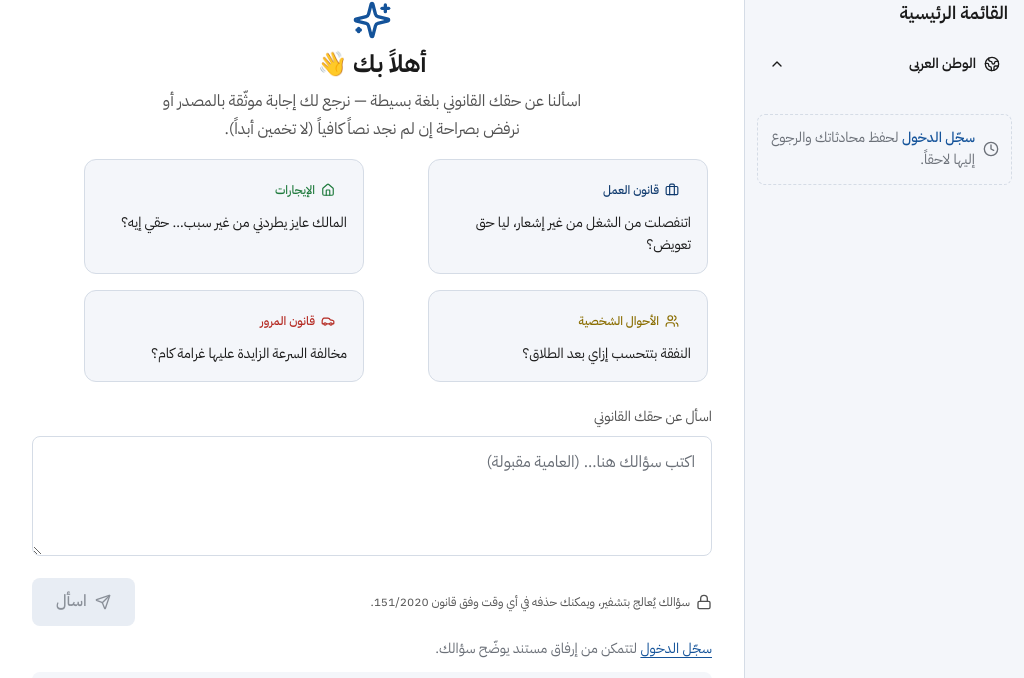
Test: ChatScreen › الاستيضاح › «تخطَّ وأجبنى مباشرة» يرسل skip=true مع الإجابات حتى الآن
Type "ما حقوقى عند الفصل؟" into the text box labelled "اسأل عن حقك القانوني".
click(372, 496); type("ما حقوقى عند الفصل؟")  # box top-left (32, 436), bottom-right (712, 556)
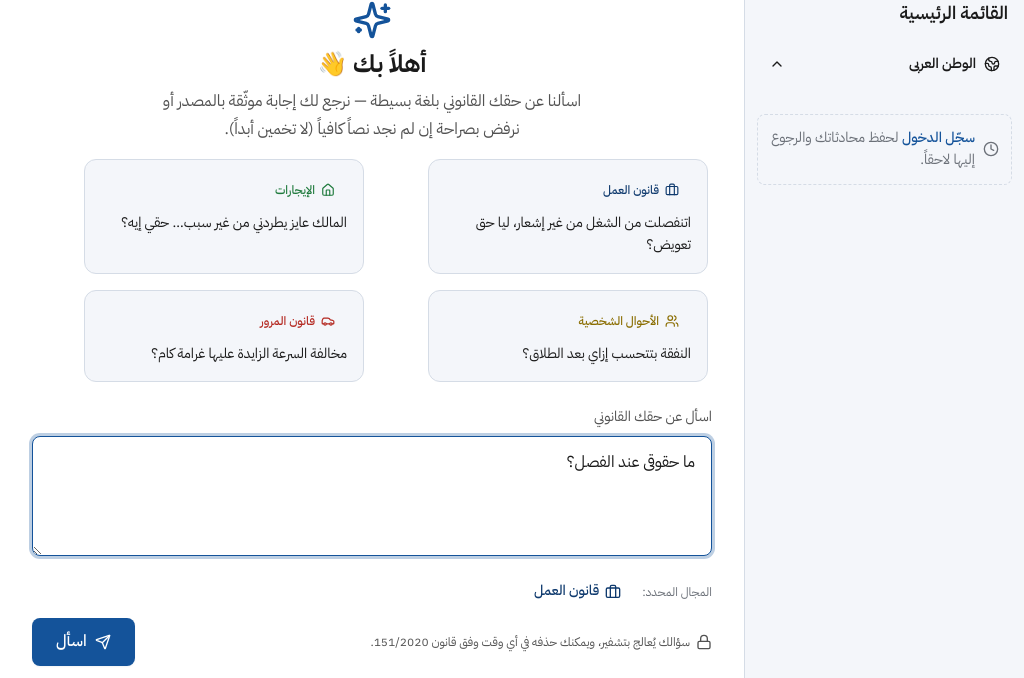
Click the button with aria-label "إرسال السؤال".
click(83, 642)  # box top-left (32, 618), bottom-right (135, 666)
(page scrolled)
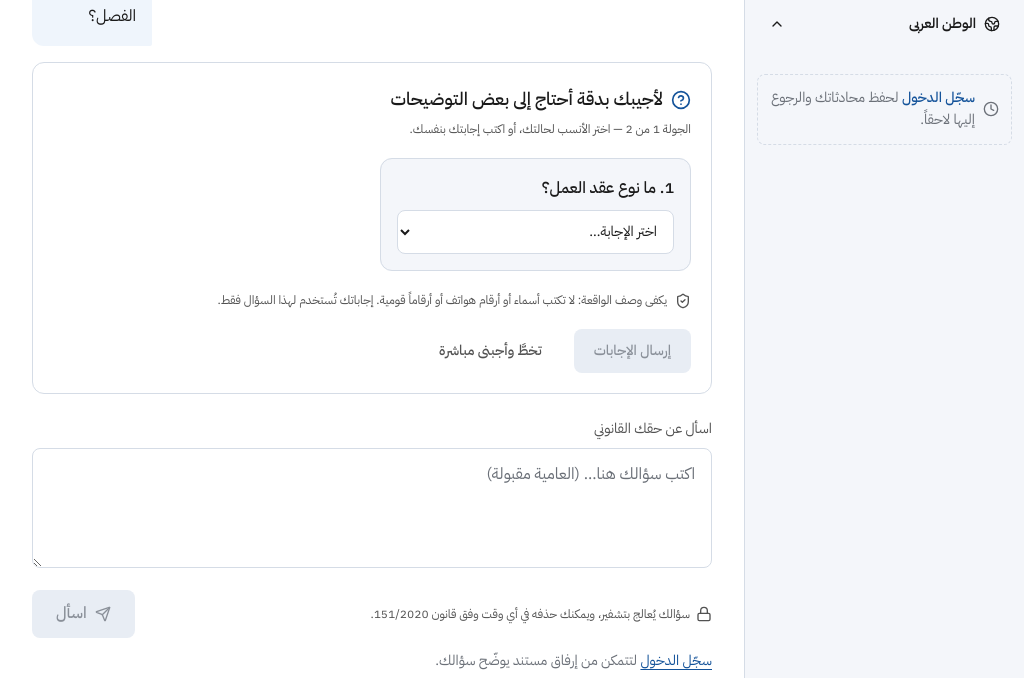
Expected: the button "تخطَّ وأجبنى مباشرة" is shown
Click the button "تخطَّ وأجبنى مباشرة".
click(490, 351)  # box top-left (419, 329), bottom-right (562, 373)
(page scrolled)
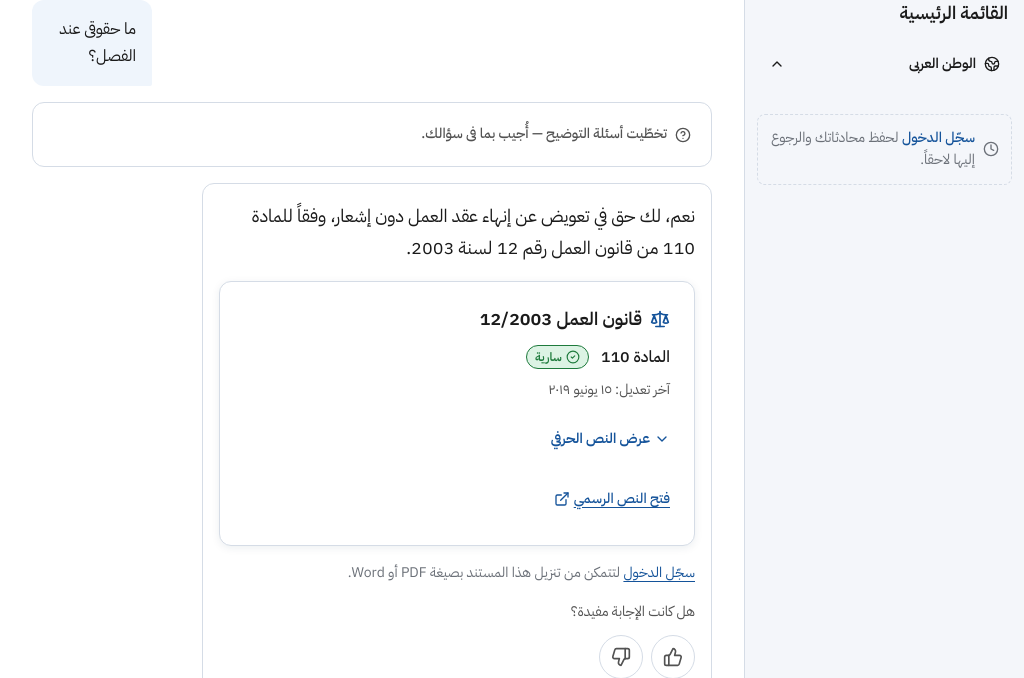
Expected: the text "نعم، لك حق في تعويض عن إنهاء عقد العمل دون إشعار، وفقاً للمادة 110 من قانون العمل رقم 12 لسنة 2003." is shown, top-left (252, 202), bottom-right (695, 261)
